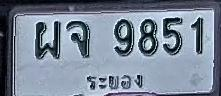1: (191, 17, 203, 54)
5: (162, 17, 182, 55)
8: (138, 18, 157, 56)
9: (114, 18, 133, 56)
A08: (66, 20, 90, 58)
A28: (35, 21, 61, 59)
RYG: (81, 71, 149, 91)
